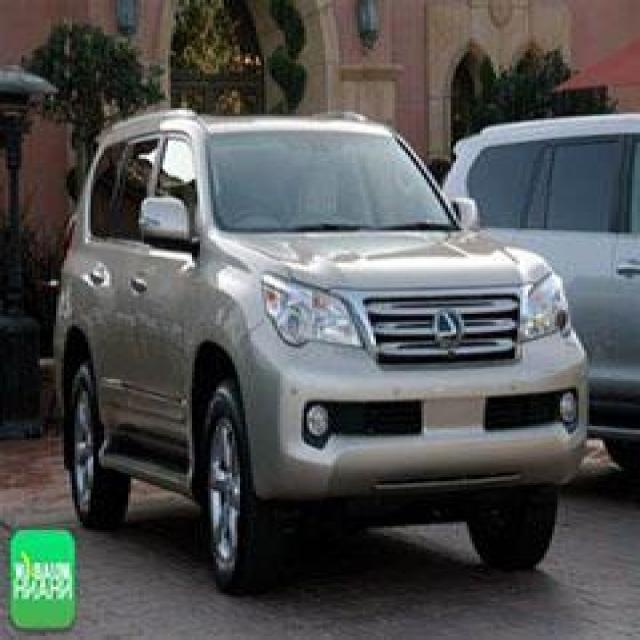car: (35, 49, 632, 611)
